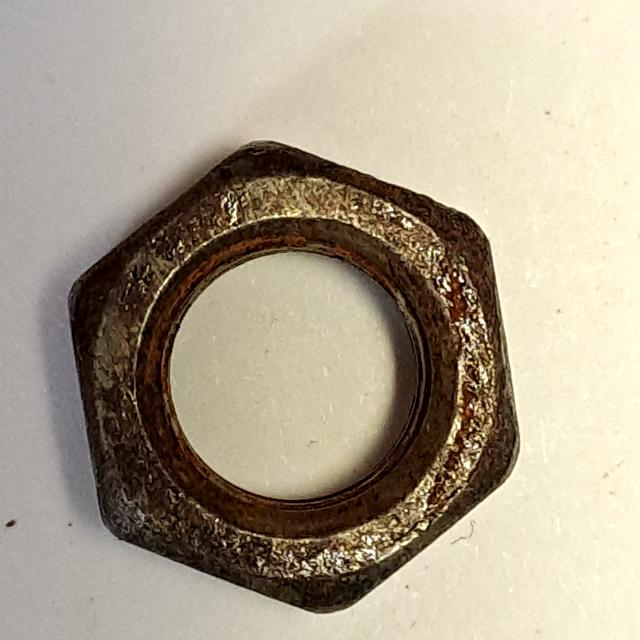Rust: (55, 123, 535, 626)
